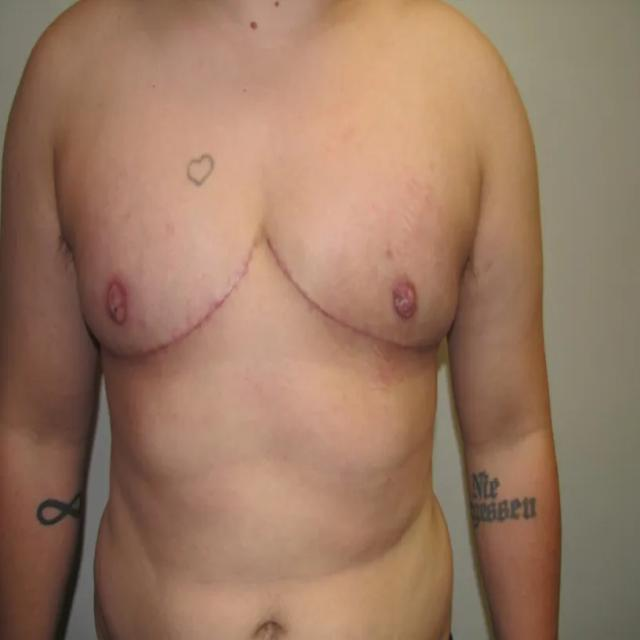Seno herido: (268, 207, 474, 368), (66, 204, 256, 374)
